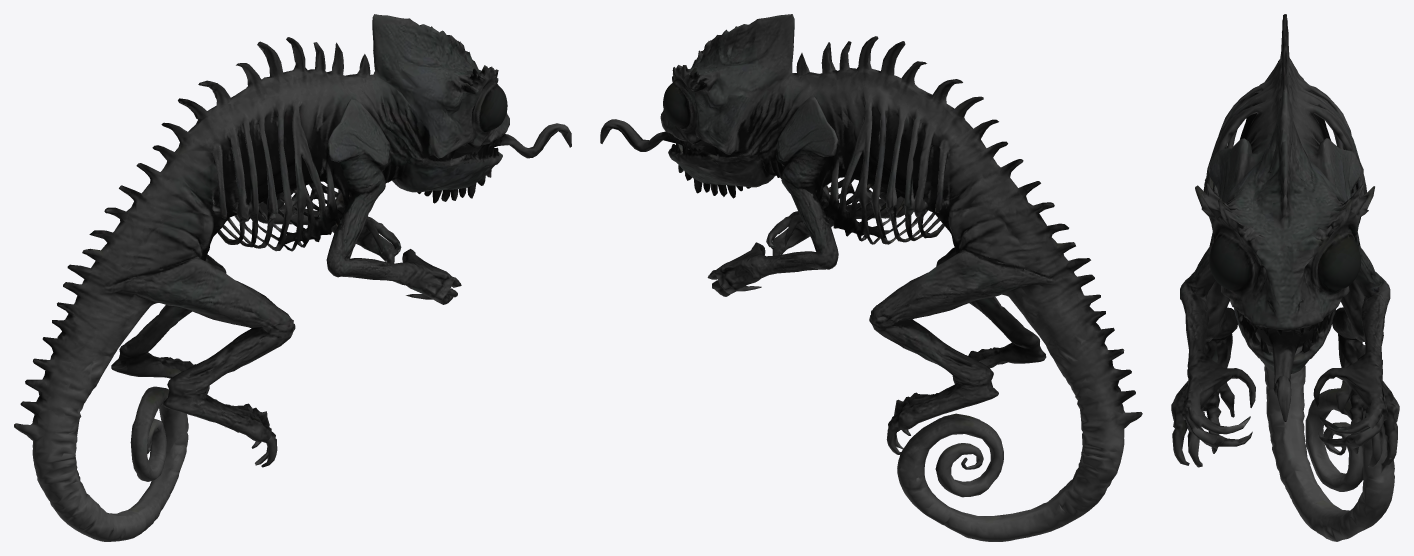
File: chameleon.glb
The picture shows the model from 3 angles, left to right: view 1: azimuth 30°, elevation 25°; view 2: azimuth 150°, elevation 25°; view 3: azimuth 270°, elevation 25°; orthographic projection. The views are drawn at different scales.
Parts seen in each view (by area): view 1: tripo_node_822c0347; view 2: tripo_node_822c0347; view 3: tripo_node_822c0347.
Part boxes in pixels (x1,y1,x2,y2): tripo_node_822c0347: [14, 14, 571, 541]; tripo_node_822c0347: [600, 14, 1142, 541]; tripo_node_822c0347: [1171, 14, 1399, 541].
Bounding box in the file's own units: 0.9984 × 0.8175 × 0.2922.
Materials: 1 (1 with a texture image).
